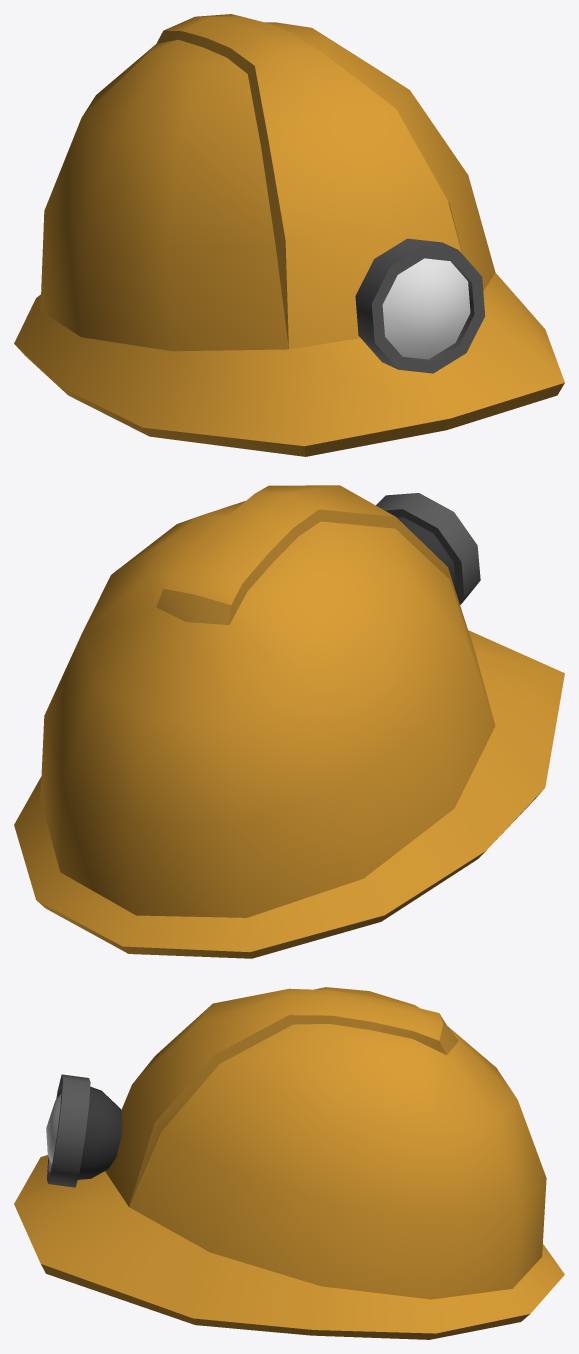
Rendered from hard hat.fbx.
3 views of the same model, one above another, from view 1: azimuth 30°, elevation 25°; view 2: azimuth 150°, elevation 25°; view 3: azimuth 270°, elevation 25° (orthographic). The views are drawn at different scales.
Visible parts, largest first — view 1: hard_hat; view 2: hard_hat; view 3: hard_hat.
Boxes of the visible parts, <box> form: hard_hat: <box>14,14,564,456</box>; hard_hat: <box>14,485,564,958</box>; hard_hat: <box>14,987,564,1339</box>.
Bounding box in the file's own units: 0.2594 × 0.1987 × 0.3445.
